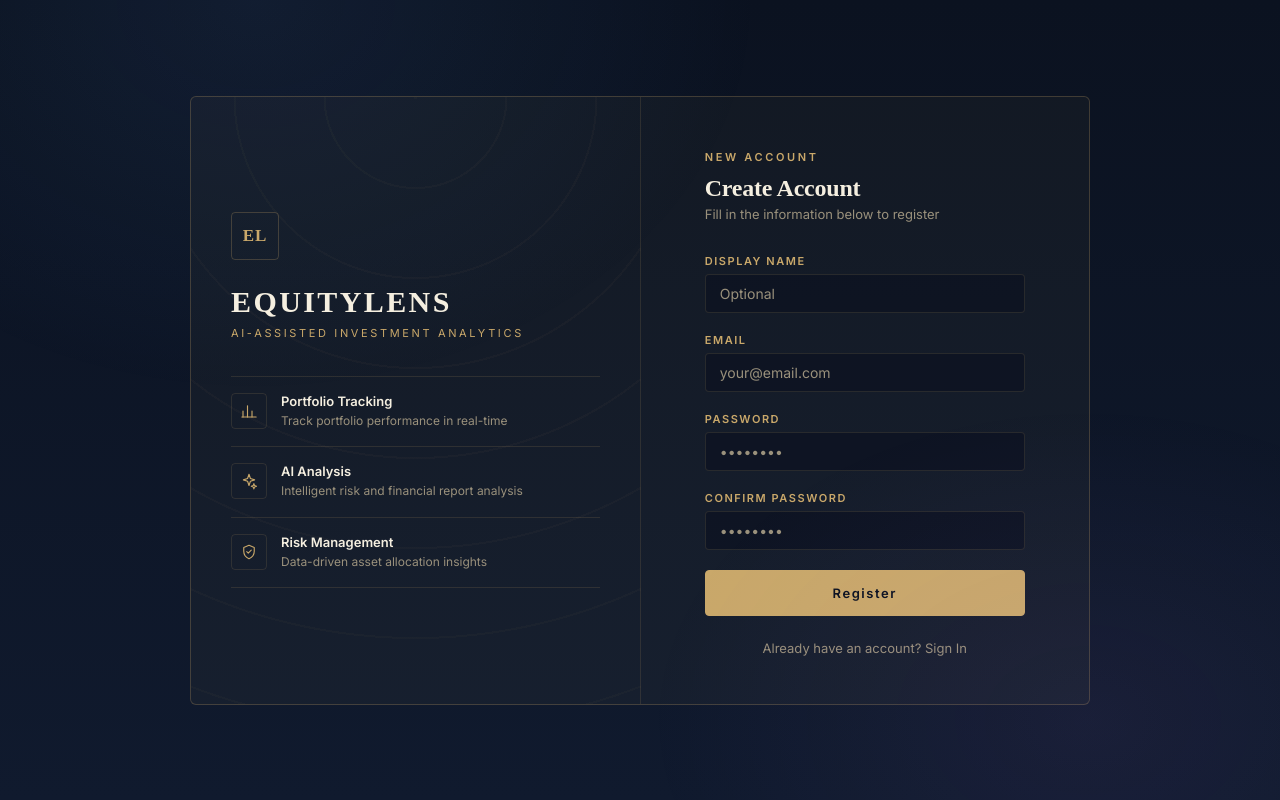
Test case: RegisterView › shows error when passwords do not match
Type "test@test.com" into the field with placeholder "your@email.com" at (865, 372), box [705,352,1025,392]
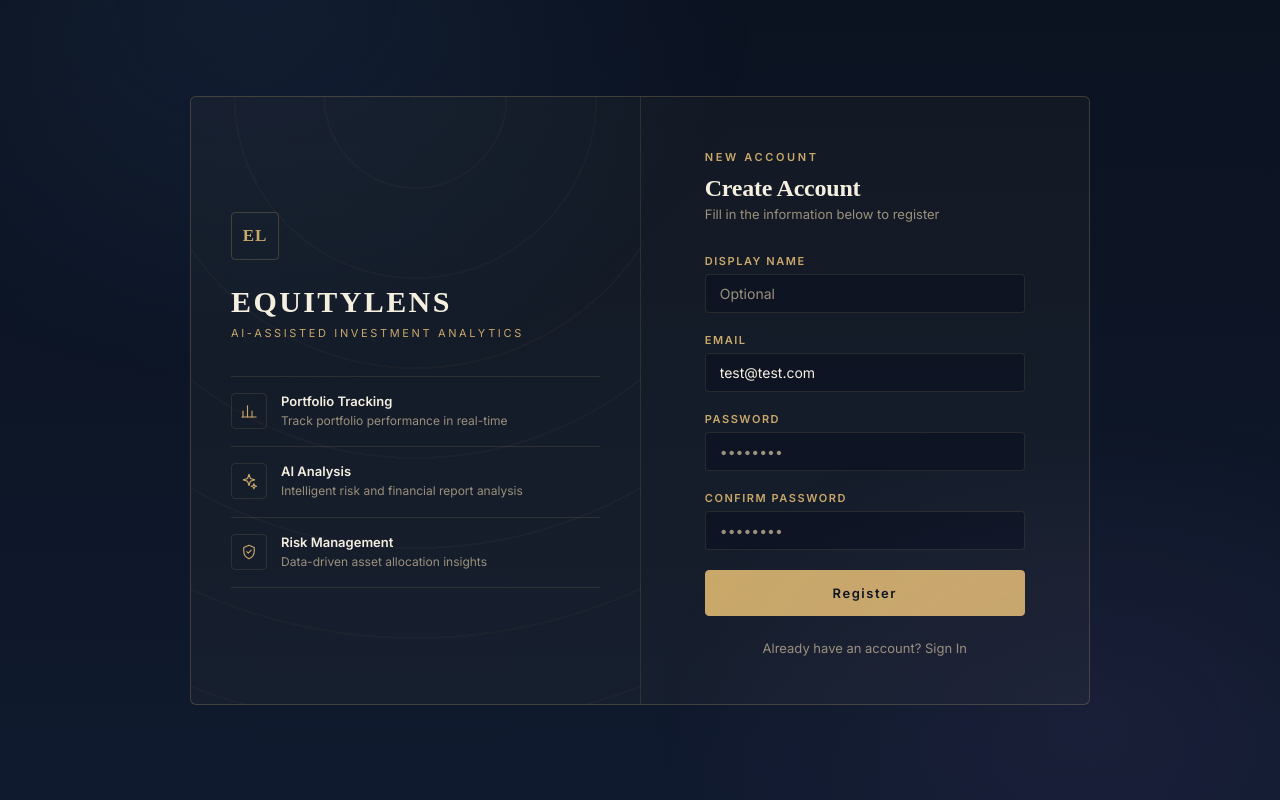
Type "password123" into the 1st password field with placeholder "••••••••" at (865, 451), box [705,432,1025,470]
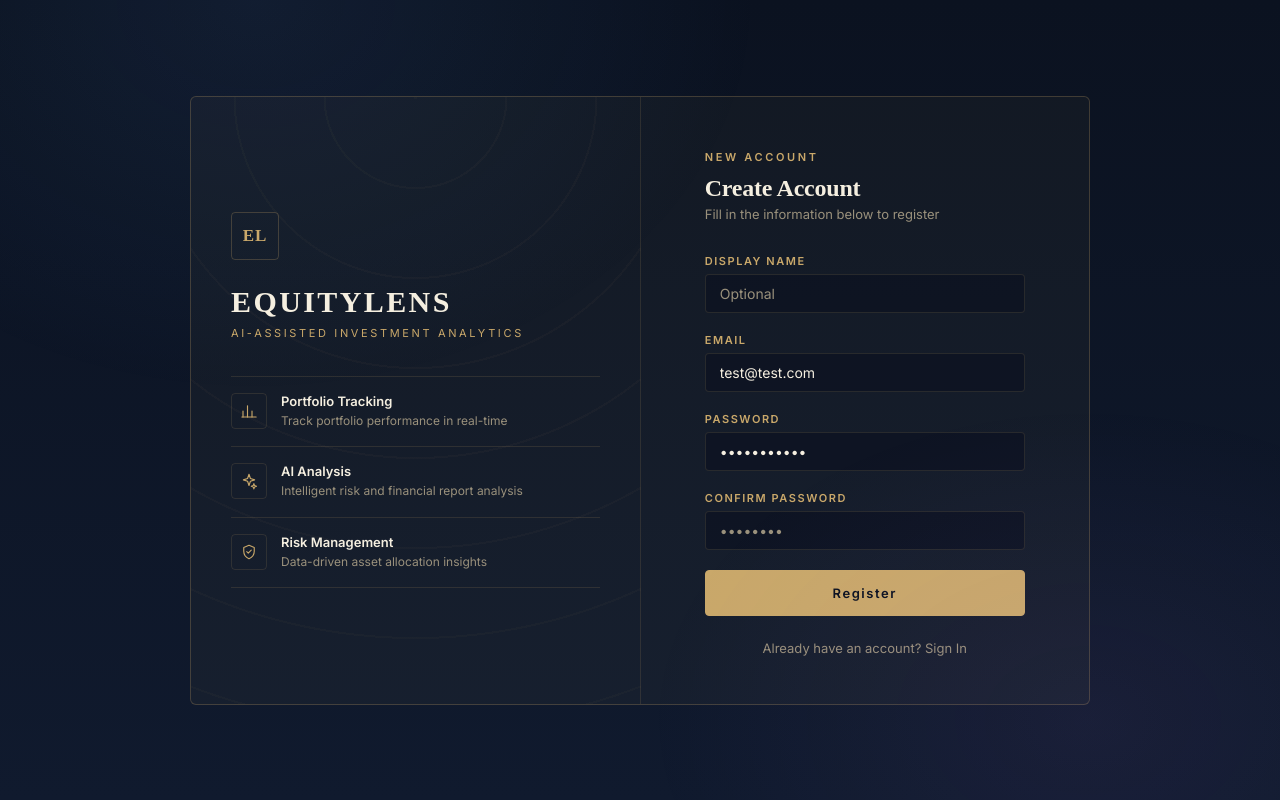
Type "password456" into the password field with placeholder "••••••••" at (865, 530), box [705,510,1025,550]
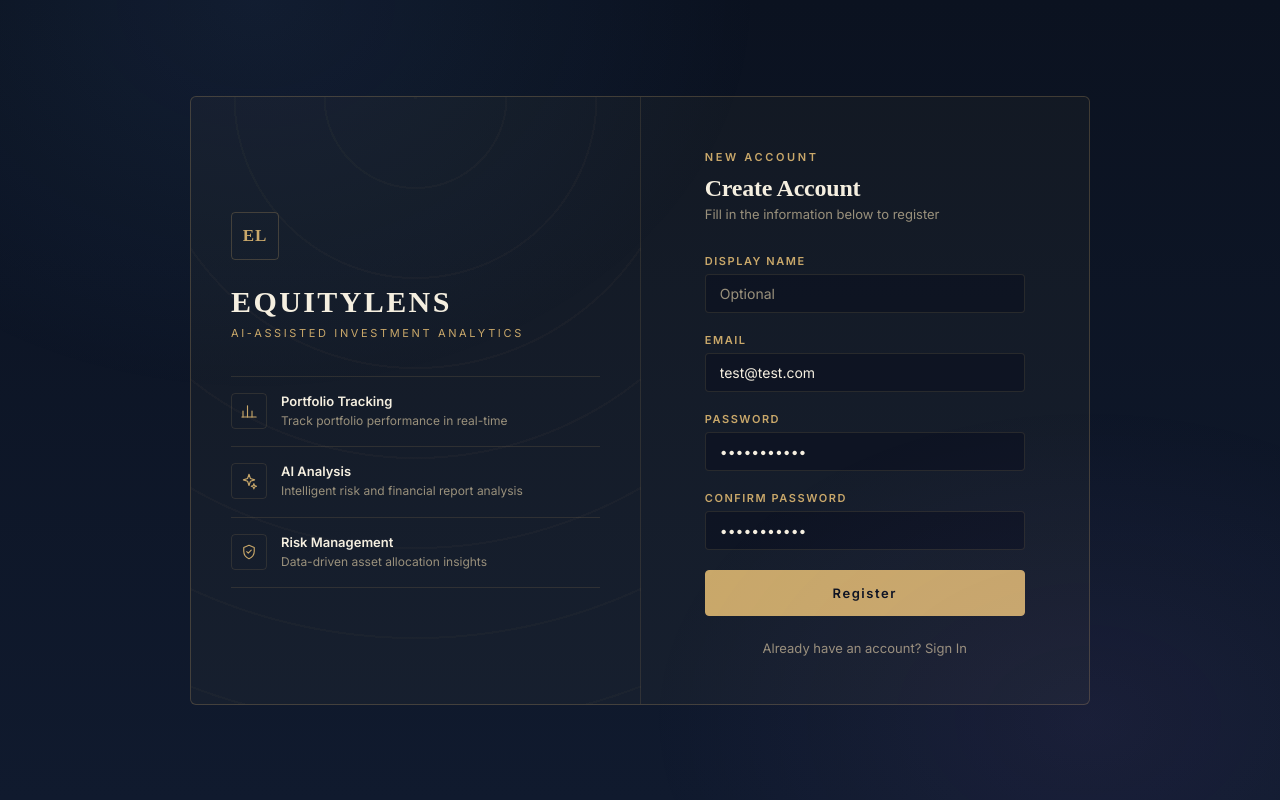
Submit the form, box [705,254,1025,616]
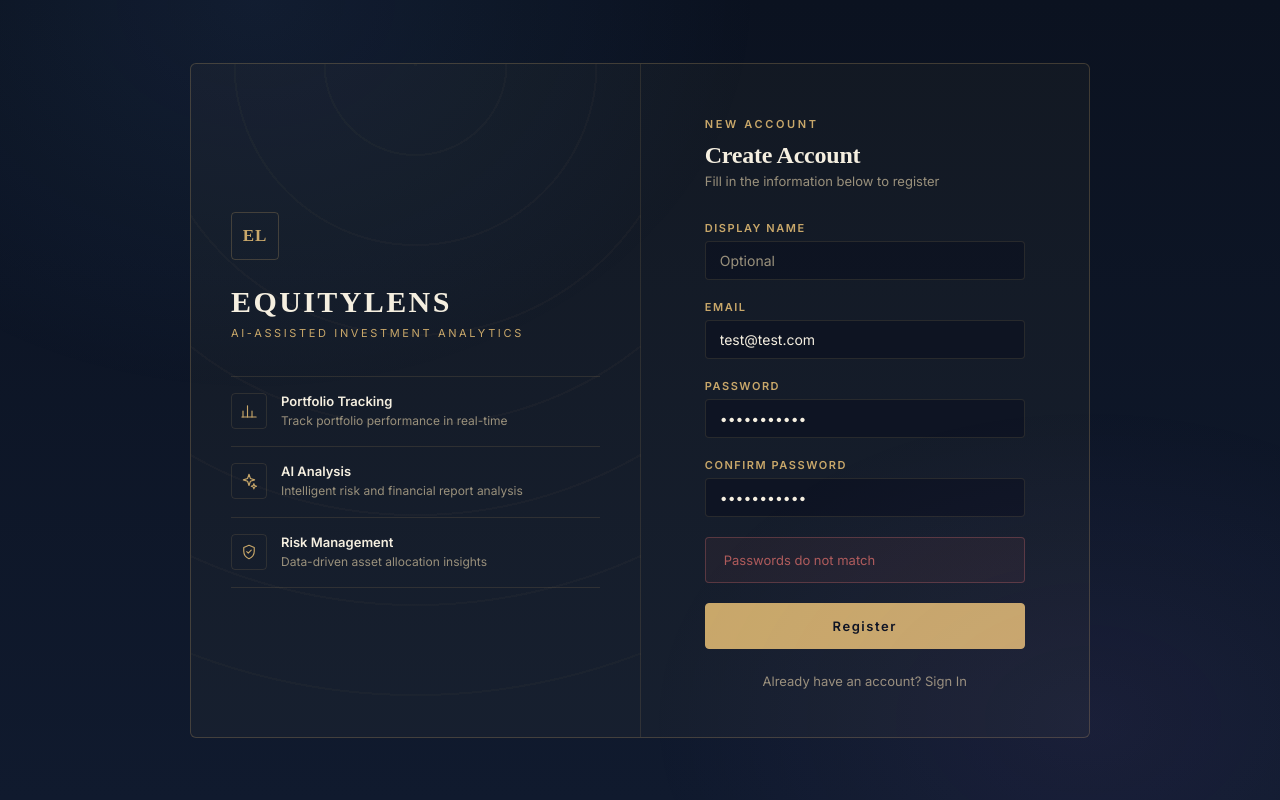
Check: the text "Passwords do not match" is shown, box [705,536,1025,582]
